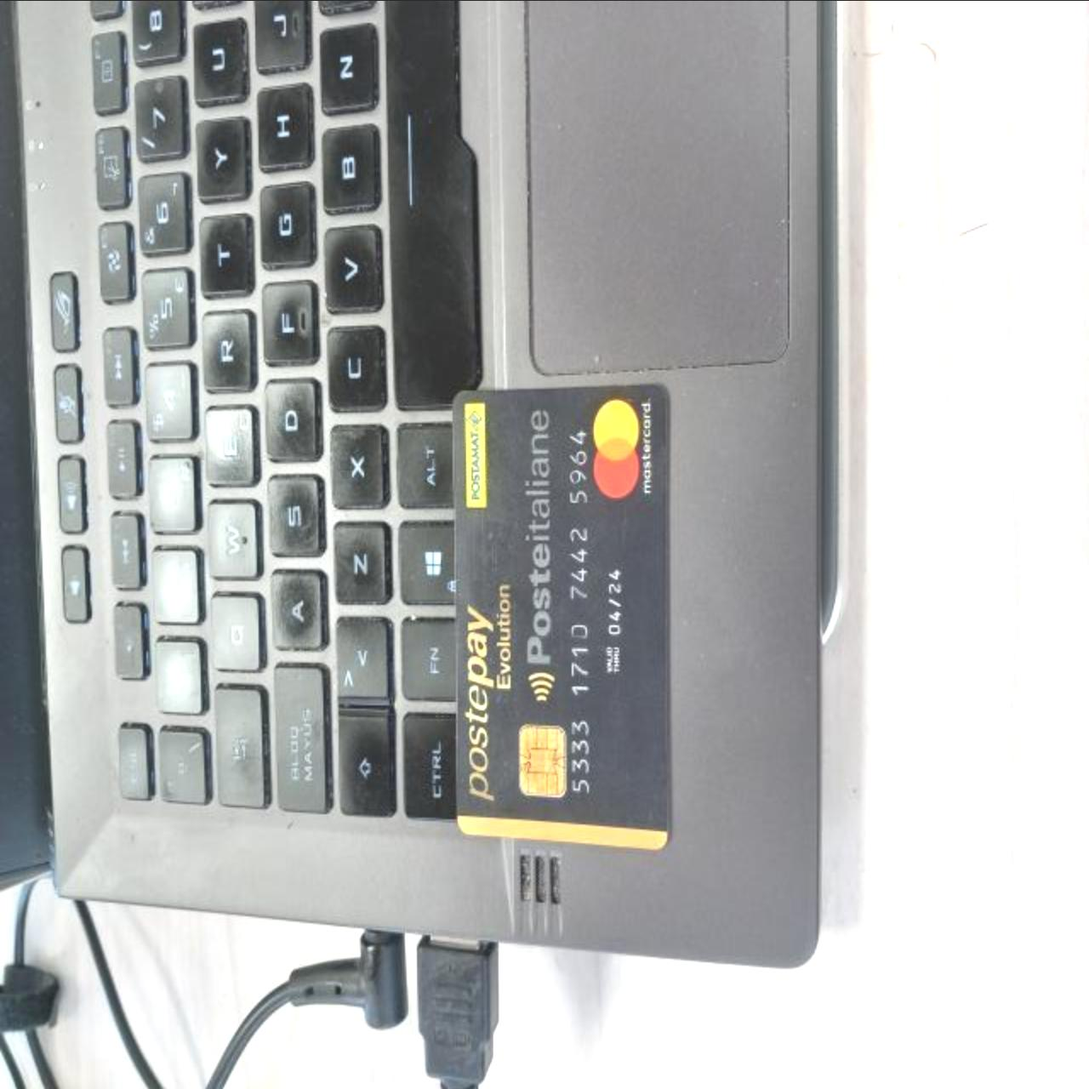credit_card: (449, 391, 677, 854)
